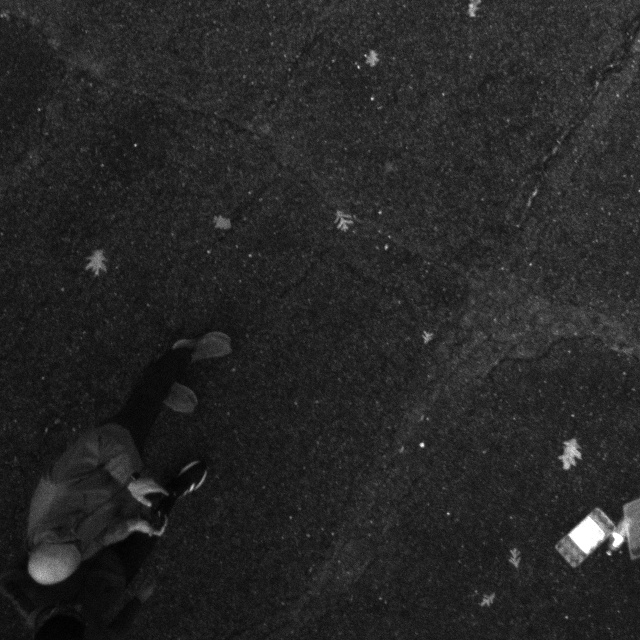container: (557, 504, 606, 566)
